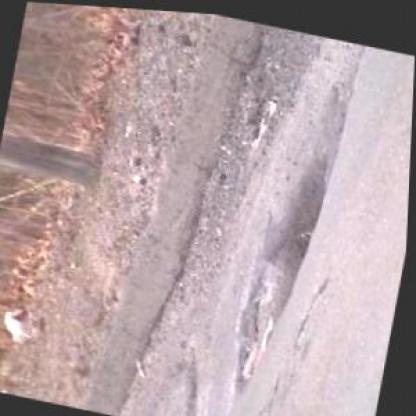pothole: (225, 142, 337, 396)
